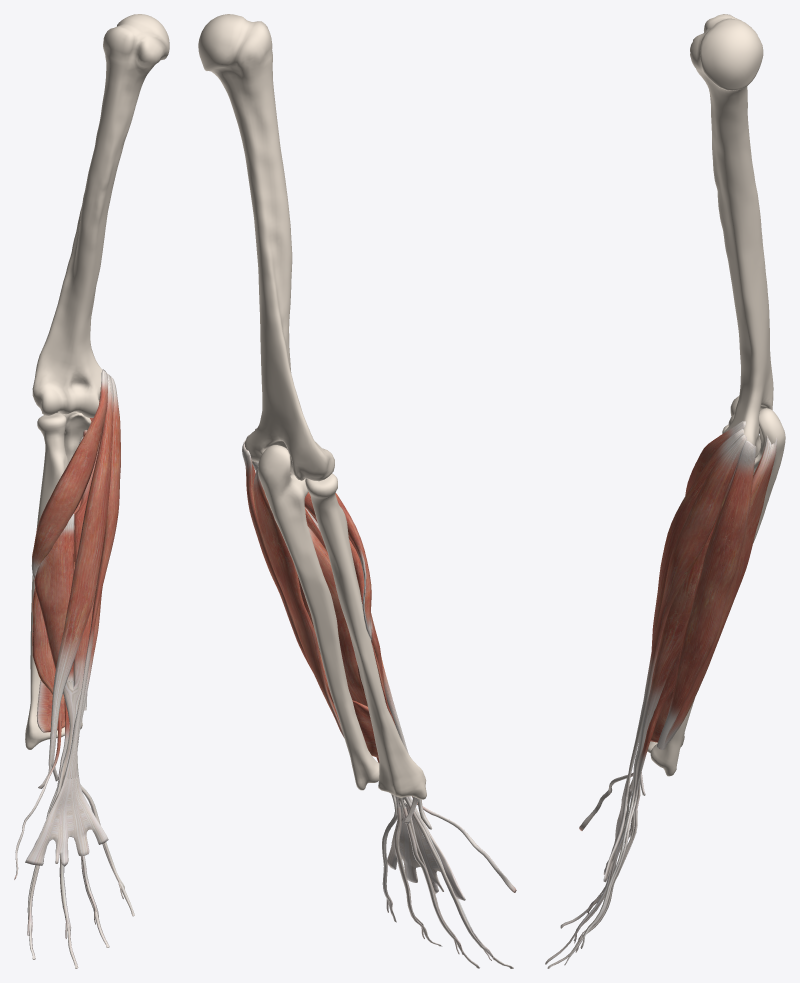
File: forearm-flexors.glb
3 renders of one model, left to right at view 1: azimuth 30°, elevation 25°; view 2: azimuth 150°, elevation 25°; view 3: azimuth 270°, elevation 25°, orthographic. The views are drawn at different scales.
Parts seen in each view (by area): view 1: Humerus.r, Flexor carpi radialis.r, Pronator teres humeral head.r, Flexor digitorum superficialis humero-ulnar head.r, Aponeurosis palmaris.r, Flexor digitorum superficialis radial head.r, Radius.r, Palmaris longus.r, Flexor pollicis longus.r, Flexor digitorum profundus.r, Ulna.r, Pronator quadratus.r; view 2: Humerus.r, Ulna.r, Radius.r, Flexor digitorum profundus.r, Flexor carpi ulnaris ulnar head.r, Aponeurosis palmaris.r, Flexor digitorum superficialis humero-ulnar head.r, Flexor carpi ulnaris humeral head.r, Pronator teres humeral head.r, Flexor pollicis longus.r, Flexor carpi radialis.r; view 3: Humerus.r, Flexor carpi ulnaris humeral head.r, Palmaris longus.r, Flexor digitorum superficialis humero-ulnar head.r, Flexor carpi ulnaris ulnar head.r, Flexor digitorum profundus.r, Ulna.r, Flexor carpi radialis.r, Pronator teres humeral head.r, Aponeurosis palmaris.r.
Boxes of the visible parts, x1,y1,x2,y2 form: Humerus.r: [32, 14, 169, 417]; Flexor carpi radialis.r: [38, 374, 113, 788]; Pronator teres humeral head.r: [31, 369, 108, 579]; Flexor digitorum superficialis humero-ulnar head.r: [27, 440, 124, 938]; Aponeurosis palmaris.r: [25, 776, 108, 866]; Flexor digitorum superficialis radial head.r: [34, 513, 74, 681]; Radius.r: [25, 413, 68, 749]; Palmaris longus.r: [64, 376, 120, 778]; Flexor pollicis longus.r: [14, 588, 61, 879]; Flexor digitorum profundus.r: [27, 436, 134, 968]; Ulna.r: [56, 411, 91, 729]; Pronator quadratus.r: [36, 680, 64, 732]; Humerus.r: [198, 14, 334, 481]; Ulna.r: [257, 445, 379, 790]; Radius.r: [305, 473, 426, 799]; Flexor digitorum profundus.r: [298, 526, 513, 968]; Flexor carpi ulnaris ulnar head.r: [253, 466, 344, 738]; Aponeurosis palmaris.r: [387, 807, 465, 900]; Flexor digitorum superficialis humero-ulnar head.r: [252, 461, 494, 960]; Flexor carpi ulnaris humeral head.r: [242, 439, 333, 703]; Pronator teres humeral head.r: [255, 428, 371, 640]; Flexor pollicis longus.r: [357, 643, 516, 892]; Flexor carpi radialis.r: [309, 511, 432, 829]; Humerus.r: [690, 14, 773, 457]; Flexor carpi ulnaris humeral head.r: [657, 440, 756, 748]; Palmaris longus.r: [624, 434, 746, 796]; Flexor digitorum superficialis humero-ulnar head.r: [573, 466, 736, 952]; Flexor carpi ulnaris ulnar head.r: [659, 436, 777, 749]; Flexor digitorum profundus.r: [545, 653, 679, 968]; Ulna.r: [650, 408, 785, 776]; Flexor carpi radialis.r: [640, 429, 743, 795]; Pronator teres humeral head.r: [685, 421, 745, 495]; Aponeurosis palmaris.r: [603, 788, 627, 882].
Bounding box in the file's own units: 0.1814 × 0.6962 × 0.1483.
Materials: 5 (2 with a texture image).
